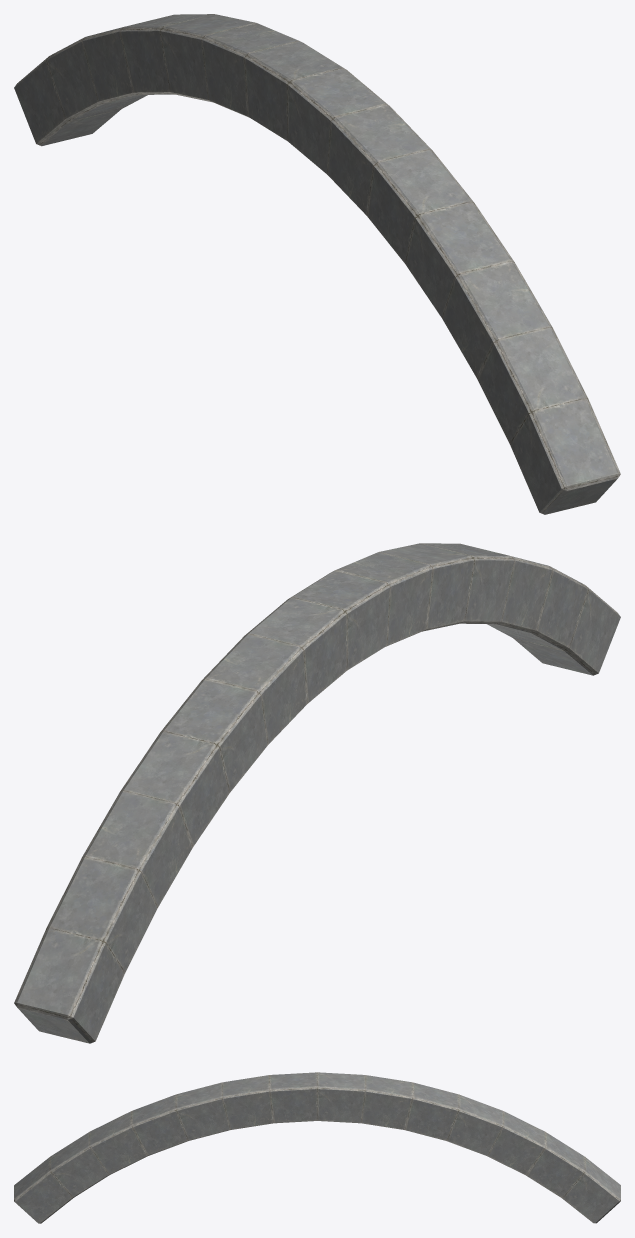
Rendered from FBX_Arch_Straight_Mini.fbx.
3 views of the same model, one above another, from view 1: azimuth 30°, elevation 25°; view 2: azimuth 150°, elevation 25°; view 3: azimuth 270°, elevation 25° (orthographic). The views are drawn at different scales.
Parts seen in each view (by area): view 1: Arch_Straight_Mini; view 2: Arch_Straight_Mini; view 3: Arch_Straight_Mini.
Part boxes in pixels (x1,y1,x2,y2): Arch_Straight_Mini: (14, 14, 620, 514); Arch_Straight_Mini: (14, 543, 620, 1043); Arch_Straight_Mini: (14, 1072, 620, 1223).
Size of the model in its own units: 52.59 by 211 by 842.
Materials: 1 (1 with a texture image).
